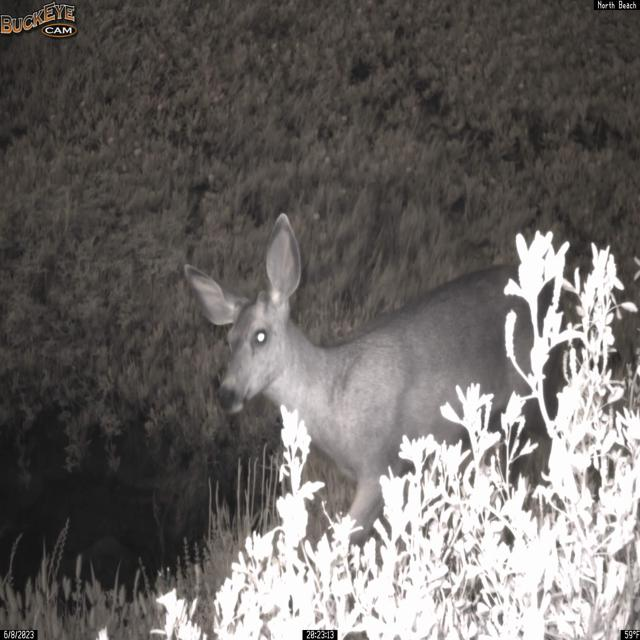deer: (182, 212, 596, 576)
